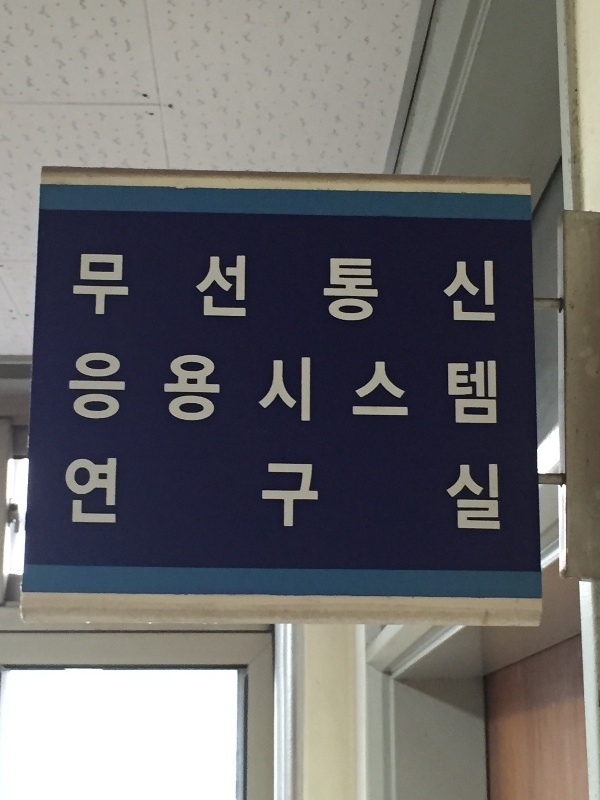text: (81, 346, 96, 428), (97, 346, 112, 428), (113, 346, 128, 428), (129, 346, 144, 428), (145, 346, 160, 428), (161, 346, 176, 428), (177, 346, 192, 428), (193, 346, 208, 428), (209, 346, 224, 428), (225, 346, 240, 428), (241, 346, 256, 428), (257, 346, 272, 428), (273, 346, 288, 428), (289, 346, 304, 428), (305, 346, 320, 428), (321, 346, 336, 428), (337, 346, 352, 428), (353, 346, 368, 428), (369, 346, 384, 428), (385, 346, 400, 428), (401, 346, 416, 428), (417, 346, 432, 428), (433, 346, 448, 428), (449, 346, 464, 428), (465, 346, 480, 428), (481, 346, 496, 428), (65, 455, 80, 536), (81, 455, 96, 536), (97, 455, 112, 536), (113, 455, 128, 536), (129, 455, 144, 536), (145, 455, 160, 536), (161, 455, 176, 536), (177, 455, 192, 536), (193, 455, 208, 536), (209, 455, 224, 536), (225, 455, 240, 536), (241, 455, 256, 536), (257, 455, 272, 536), (273, 455, 288, 536), (289, 455, 304, 536), (305, 455, 320, 536), (321, 455, 336, 536), (337, 455, 352, 536), (353, 455, 368, 536), (369, 455, 384, 536), (385, 455, 400, 536), (401, 455, 416, 536), (417, 455, 432, 536), (433, 455, 448, 536), (449, 455, 464, 536), (465, 455, 480, 536), (481, 455, 496, 536), (81, 247, 96, 328), (97, 247, 112, 328), (113, 247, 128, 328), (129, 247, 144, 328), (145, 247, 160, 328), (161, 247, 176, 328), (177, 247, 192, 328), (193, 247, 208, 328), (209, 247, 224, 328), (225, 247, 240, 328), (241, 247, 256, 328), (257, 247, 272, 328), (273, 247, 288, 328), (289, 247, 304, 328), (305, 247, 320, 328), (321, 247, 336, 328), (337, 247, 352, 328), (353, 247, 368, 328), (369, 247, 384, 328), (385, 247, 400, 328), (401, 247, 416, 328), (417, 247, 432, 328), (433, 247, 448, 328), (449, 247, 464, 328), (465, 247, 480, 328), (481, 247, 496, 328), (70, 346, 80, 428), (73, 247, 80, 328), (497, 455, 502, 536), (497, 346, 498, 428), (497, 247, 498, 328)
